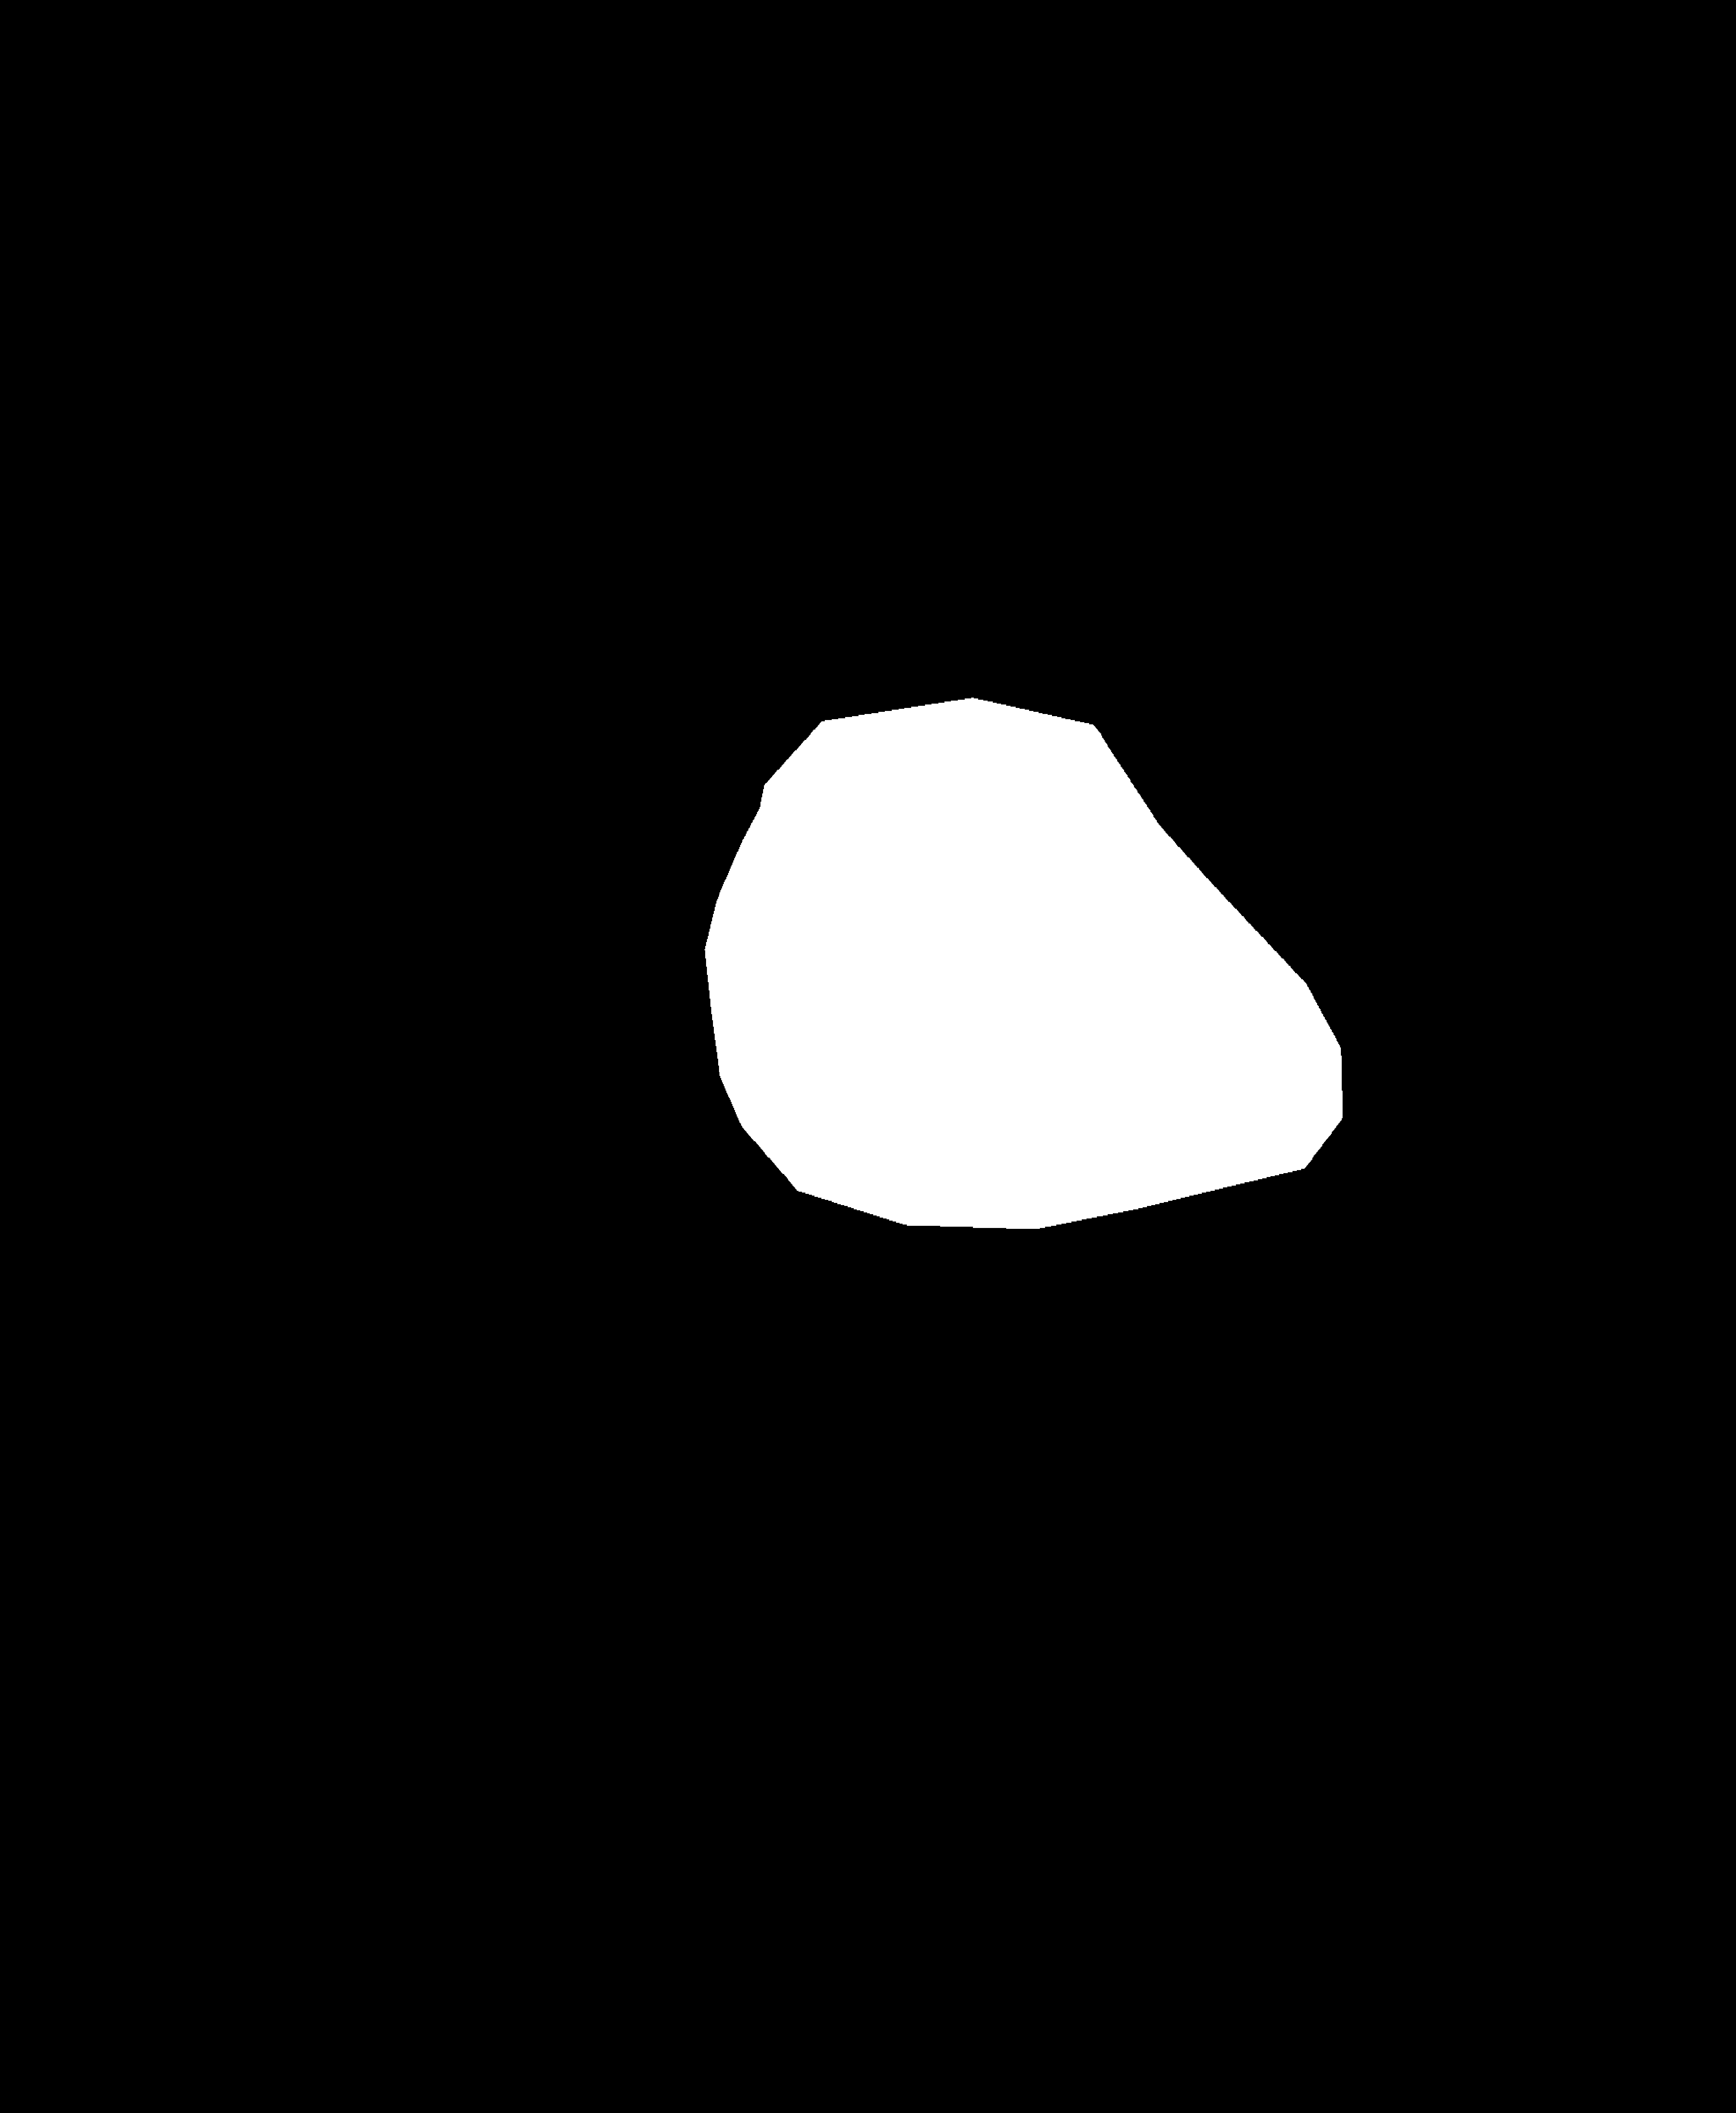heart: (707, 820, 1360, 1202)
left_lung: (304, 249, 846, 1299)
right_lung: (985, 240, 1620, 1250)
